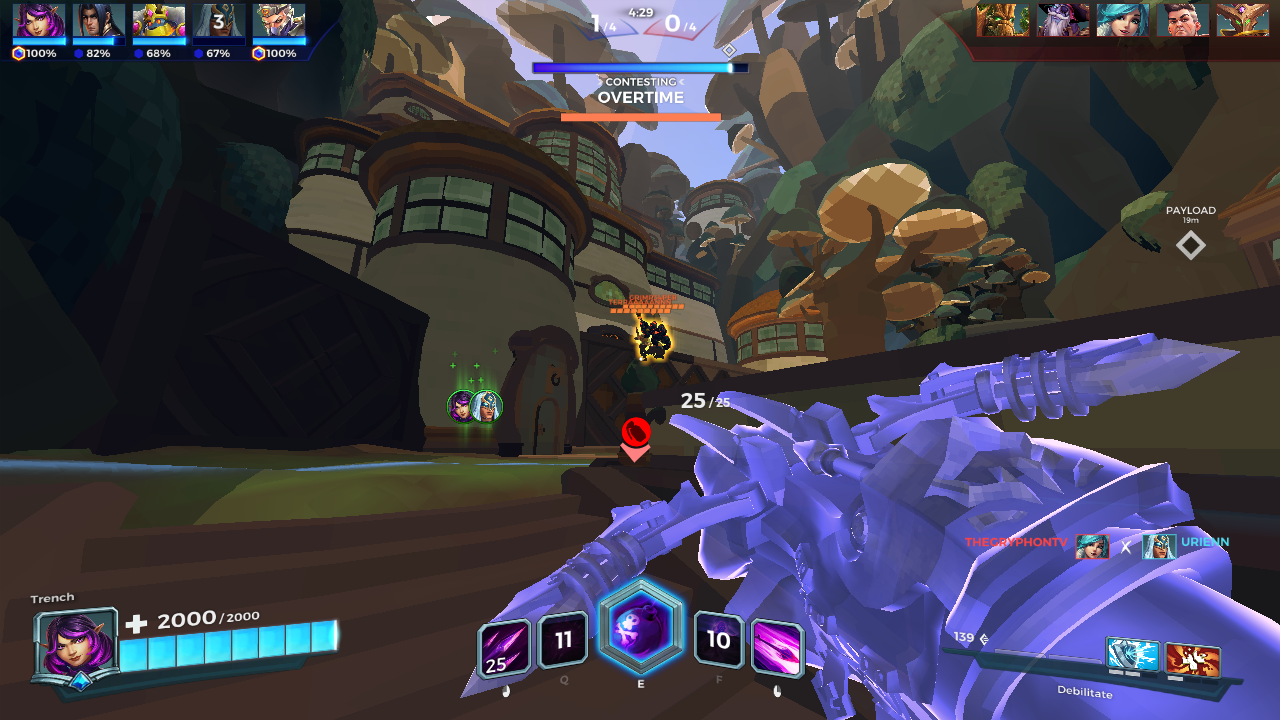model: (639, 314, 671, 361), (633, 329, 650, 357)
